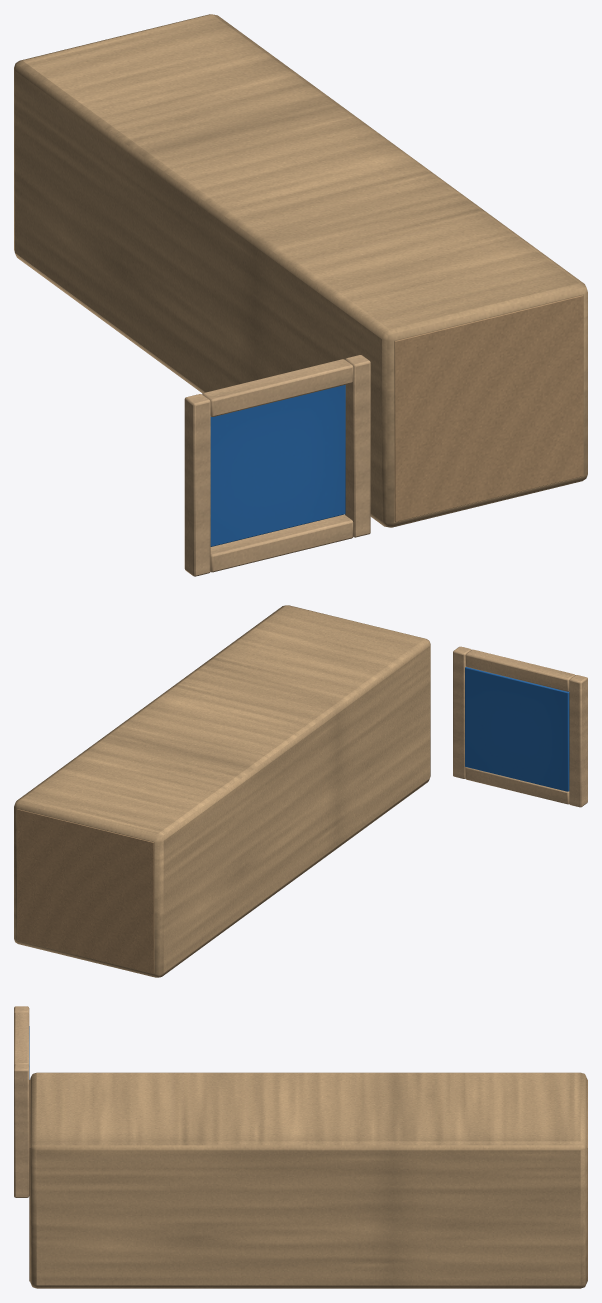
File: 8-crossed-block-layers-3-3.fbx
The picture shows the model from 3 angles, top to bottom: view 1: azimuth 30°, elevation 25°; view 2: azimuth 150°, elevation 25°; view 3: azimuth 270°, elevation 25°; orthographic projection. The views are drawn at different scales.
Parts seen in each view (by area): view 1: crossed-block-layers-3-3; view 2: crossed-block-layers-3-3; view 3: crossed-block-layers-3-3.
Part boxes in pixels (box(x1,y1,x2,y2)): crossed-block-layers-3-3: box(14, 14, 587, 576); crossed-block-layers-3-3: box(14, 605, 587, 977); crossed-block-layers-3-3: box(14, 1006, 587, 1288).
Bounding box in the file's own units: 3450 × 1600 × 5668.
Materials: 1 (1 with a texture image).
